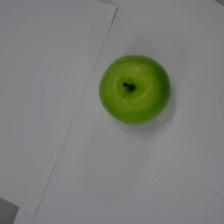green: (99, 55, 170, 124)
